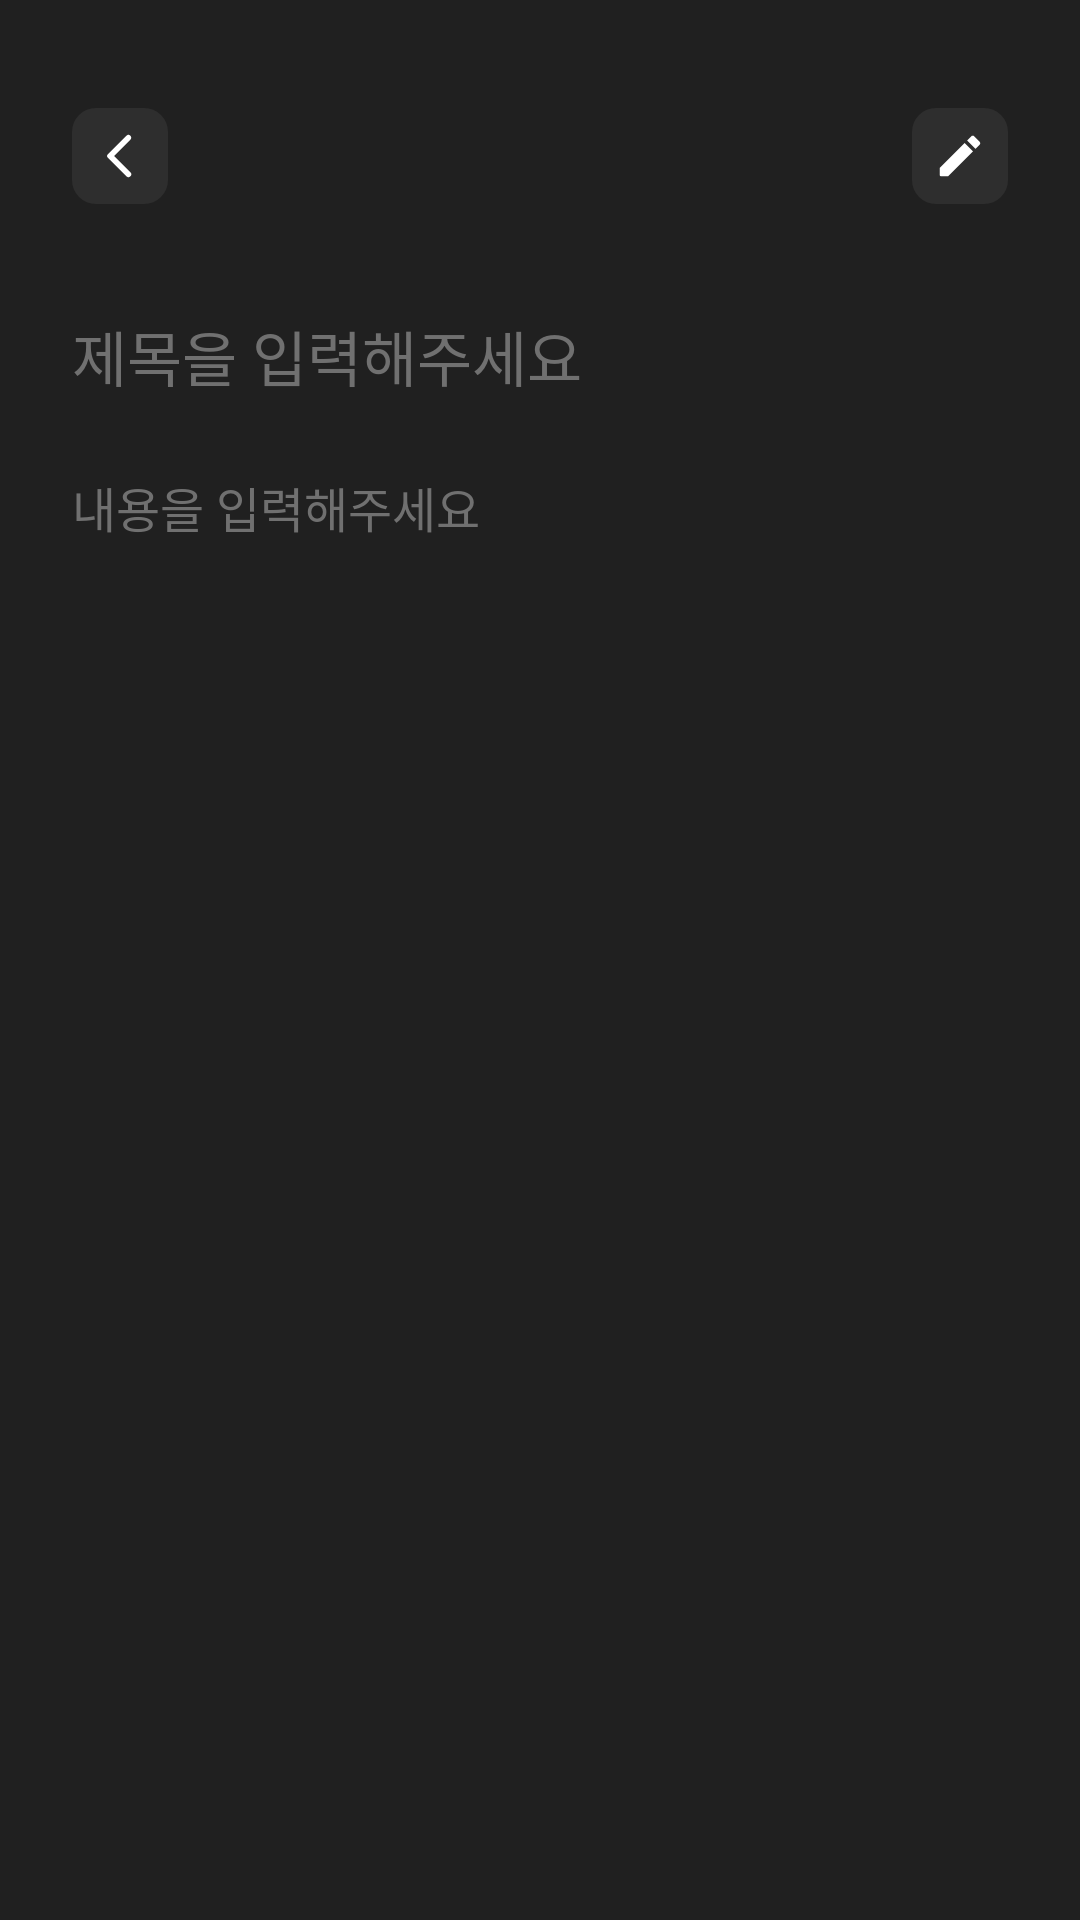

Named icons in this screenshot (1080w x 1920h) and their centers, [x,y]:
back: [120,156]
